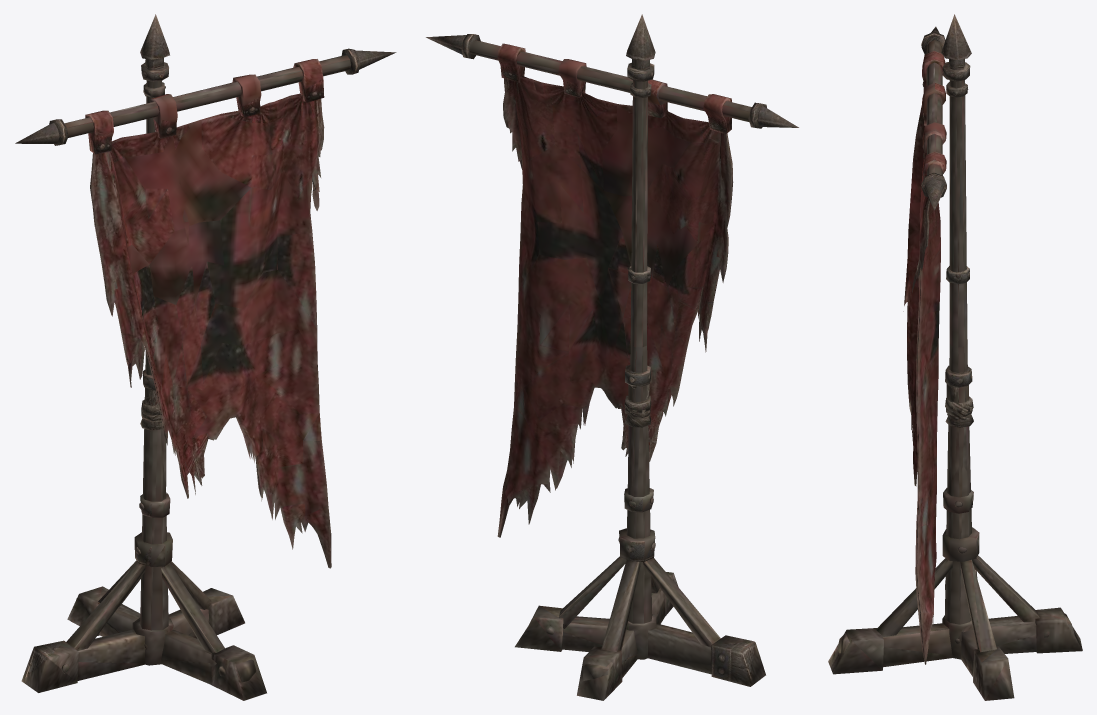
The model's file is p_banner.glb.
3 renders of one model, left to right at view 1: azimuth 30°, elevation 25°; view 2: azimuth 150°, elevation 25°; view 3: azimuth 270°, elevation 25°, orthographic.
Parts seen in each view (by area): view 1: p_banner; view 2: p_banner; view 3: p_banner.
Part boxes in pixels (x1,y1,x2,y2): p_banner: [15, 14, 396, 700]; p_banner: [426, 14, 798, 700]; p_banner: [828, 14, 1082, 700].
Bounding box in the file's own units: 1.61 × 2.6 × 0.9434.
1 material, 1 textured.
